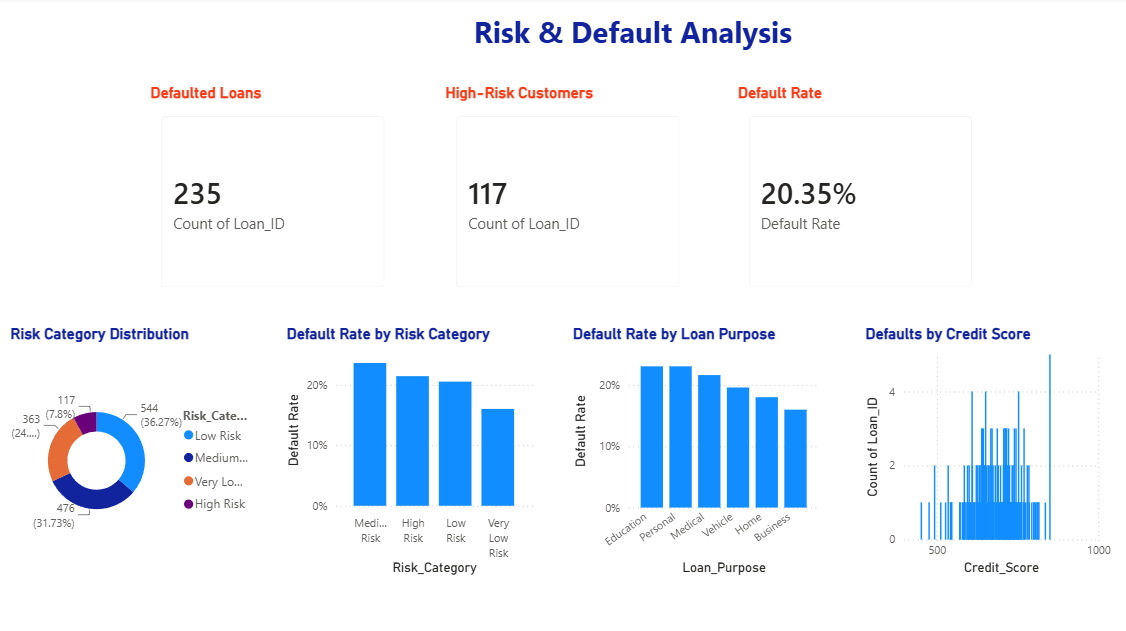

What the dashboard file says about the page in this screenshot:
{"tool":"powerbi","page":{"name":"Risk & Default Analysis","canvas":[1280,720],"ordinal":1},"visuals":[{"type":"cardVisual","title":"Defaulted Loans","fields":{"Data":["CountNonNull(banking_loan_analytics loan_data.Loan_ID)"]},"box":[161.7,43.3,280,241.7],"z":0},{"type":"clusteredColumnChart","title":"Default Rate by Risk Category","fields":{"Category":["banking_loan_analytics loan_data.Risk_Category"],"Y":["banking_loan_analytics loan_data.Default Rate"]},"box":[325,360,280,280],"z":1000},{"type":"donutChart","title":"Risk Category Distribution","fields":{"Category":["banking_loan_analytics loan_data.Risk_Category"],"Y":["CountNonNull(banking_loan_analytics loan_data.Loan_ID)"]},"box":[21.7,360,280,280],"z":2000},{"type":"clusteredColumnChart","title":"Default Rate by Loan Purpose","fields":{"Category":["banking_loan_analytics loan_data.Loan_Purpose"],"Y":["banking_loan_analytics loan_data.Default Rate"]},"box":[640,360,280,280],"z":3000},{"type":"clusteredColumnChart","title":"Defaults by Credit Score","fields":{"Category":["banking_loan_analytics loan_data.Credit_Score"],"Y":["CountNonNull(banking_loan_analytics loan_data.Loan_ID)"]},"box":[960,360,280,280],"z":4000},{"type":"cardVisual","title":"High-Risk Customers","fields":{"Data":["CountNonNull(banking_loan_analytics loan_data.Loan_ID)"]},"box":[465,43.3,280,241.7],"z":5000},{"type":"cardVisual","title":"Default Rate","fields":{"Data":["banking_loan_analytics loan_data.Default Rate"]},"box":[780,43.3,280,241.7],"z":6000}]}

Visuals, with their boxes in screenshot pixels (x1, y1, x2, y2), scaled from the page's 1280x720 canvas onto the 1126x631 screenshot:
"Defaulted Loans" cardVisual: select_region(142, 38, 389, 250)
"Default Rate by Risk Category" clusteredColumnChart: select_region(286, 316, 532, 561)
"Risk Category Distribution" donutChart: select_region(19, 316, 265, 561)
"Default Rate by Loan Purpose" clusteredColumnChart: select_region(563, 316, 809, 561)
"Defaults by Credit Score" clusteredColumnChart: select_region(844, 316, 1091, 561)
"High-Risk Customers" cardVisual: select_region(409, 38, 655, 250)
"Default Rate" cardVisual: select_region(686, 38, 932, 250)
